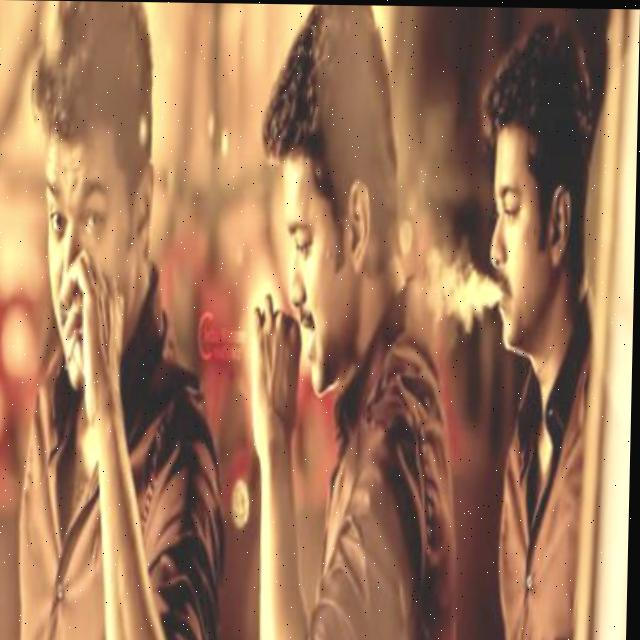cigarette: (64, 325, 81, 375)
